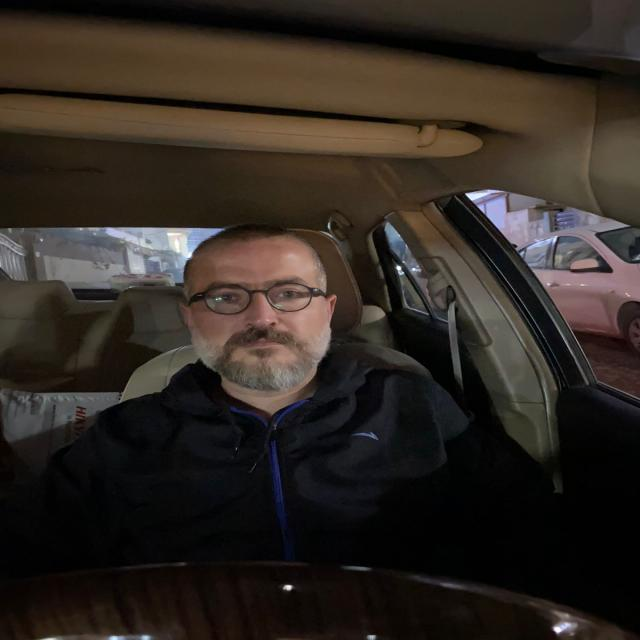person: (174, 223, 353, 403)
